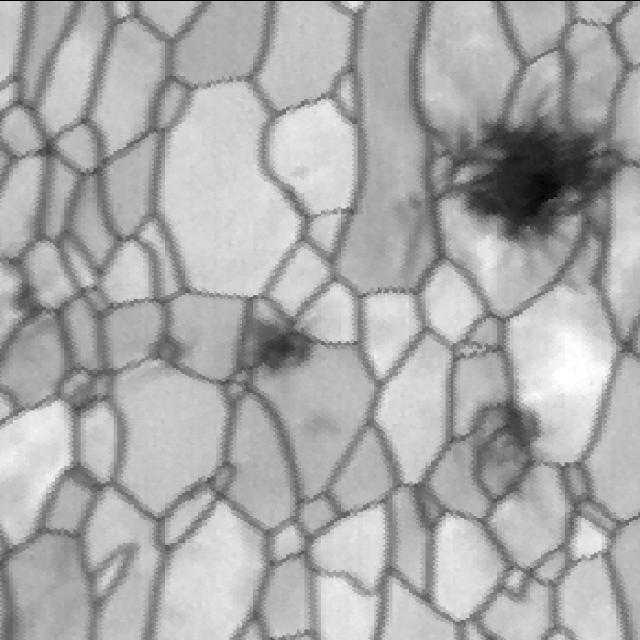good_void: (407, 66, 637, 264), (464, 369, 558, 494), (255, 300, 319, 386), (139, 321, 202, 385), (286, 150, 317, 184)
